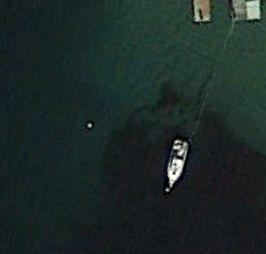Ships: (161, 129, 197, 212)
